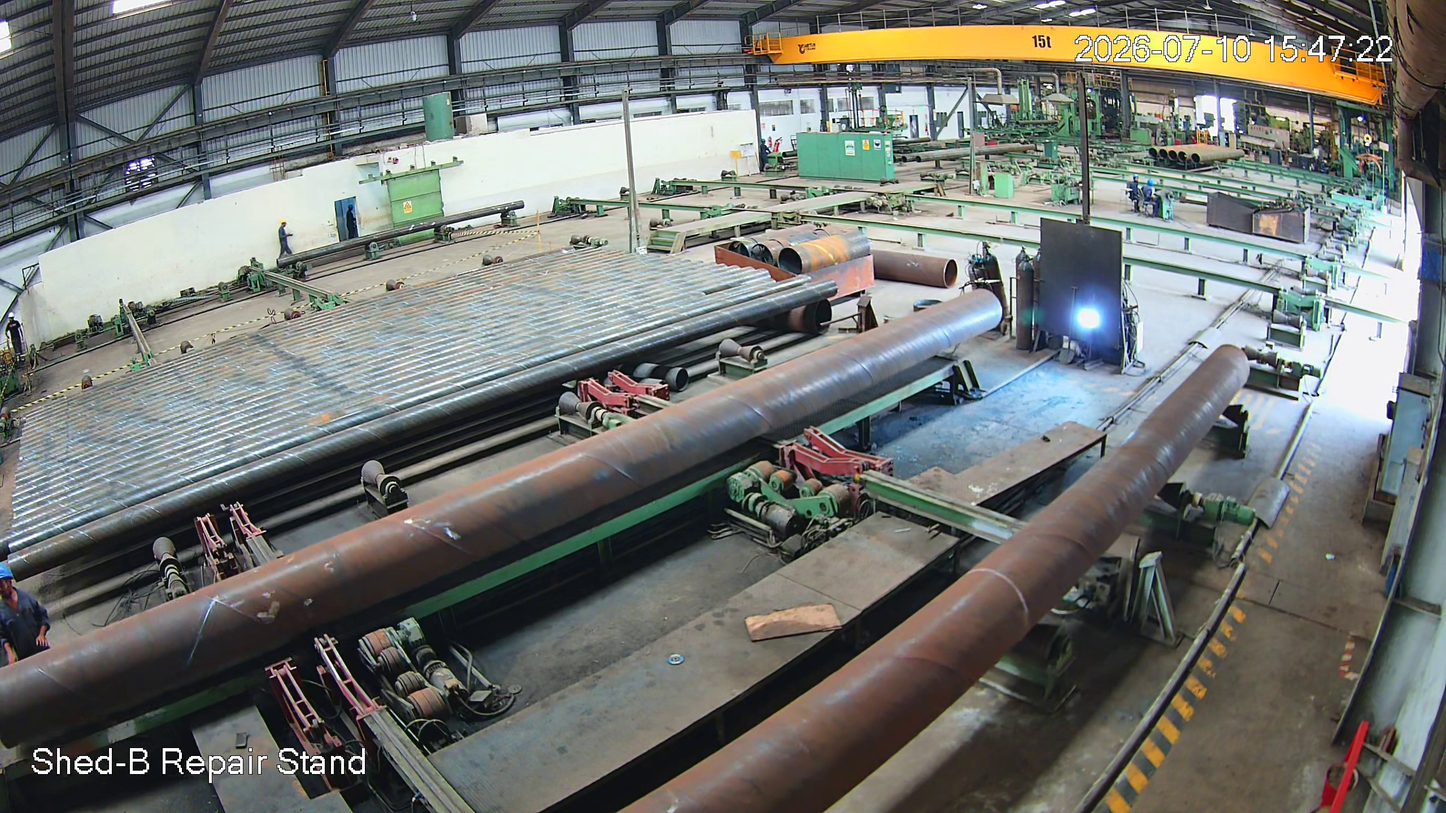Helmet: (276, 217, 290, 231)
Person: (276, 219, 294, 257)
